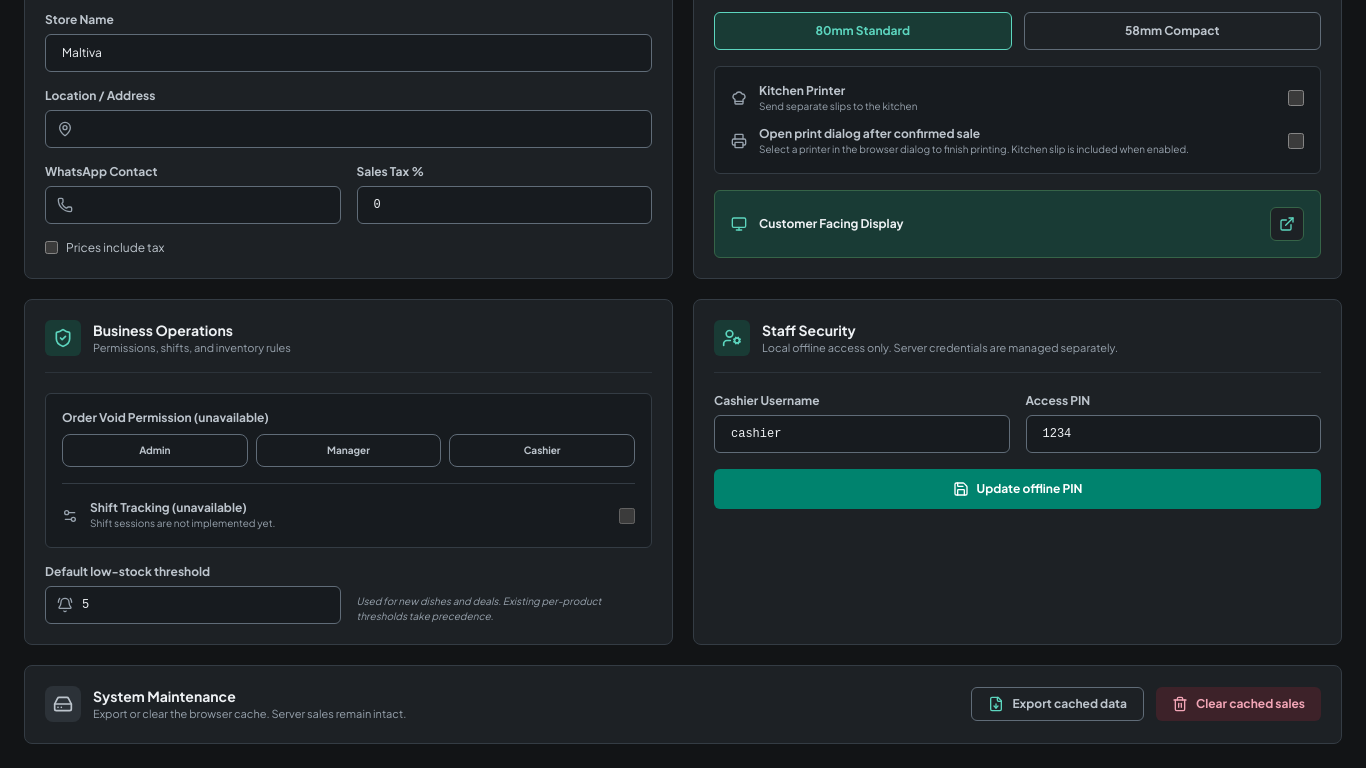
Scenario: layout controls › uses an in-app confirmation before wiping sales
(page scrolled)
Click the button "Clear cached sales" at (1238, 704), box [1156,687,1321,721]
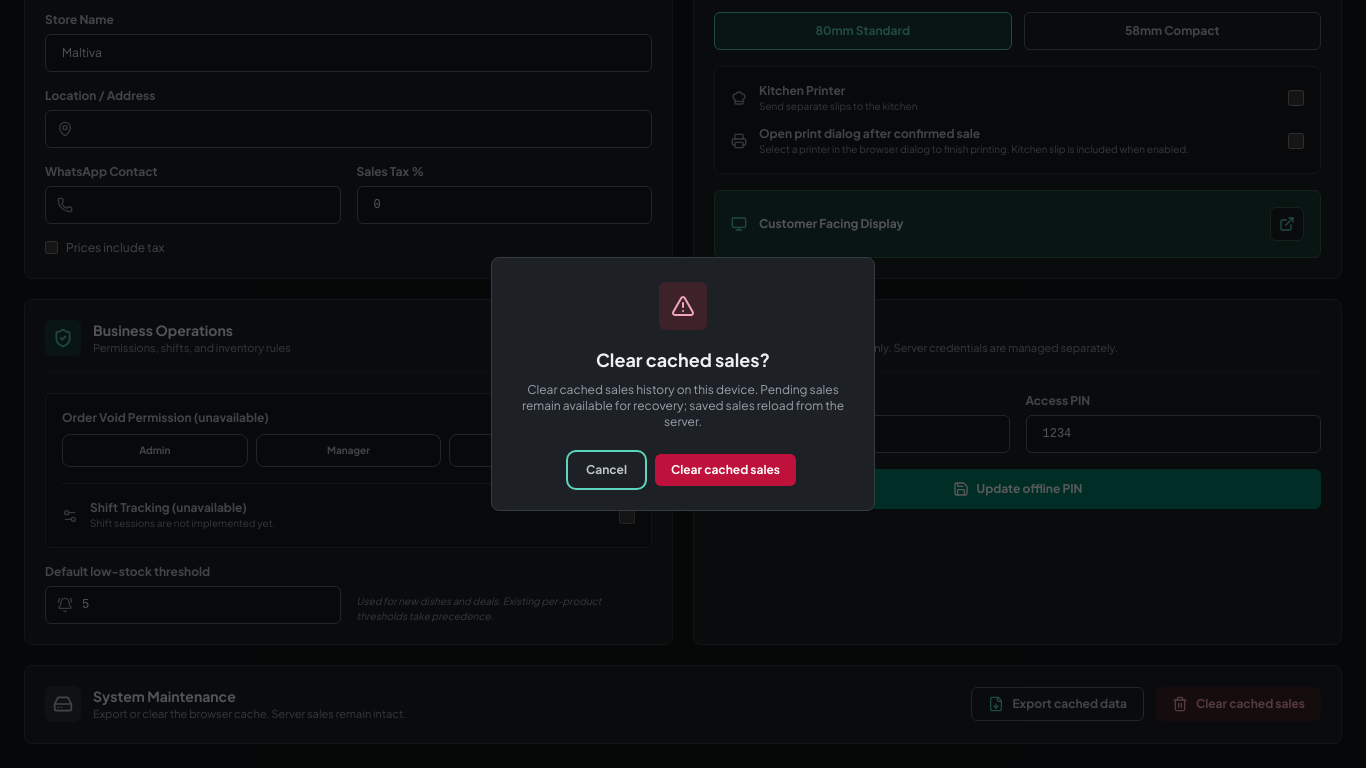
Expected: the dialog "Clear cached sales?" is shown, [491,257,875,511]
Click the button "Cancel" at (606, 470), box [570,454,643,486]
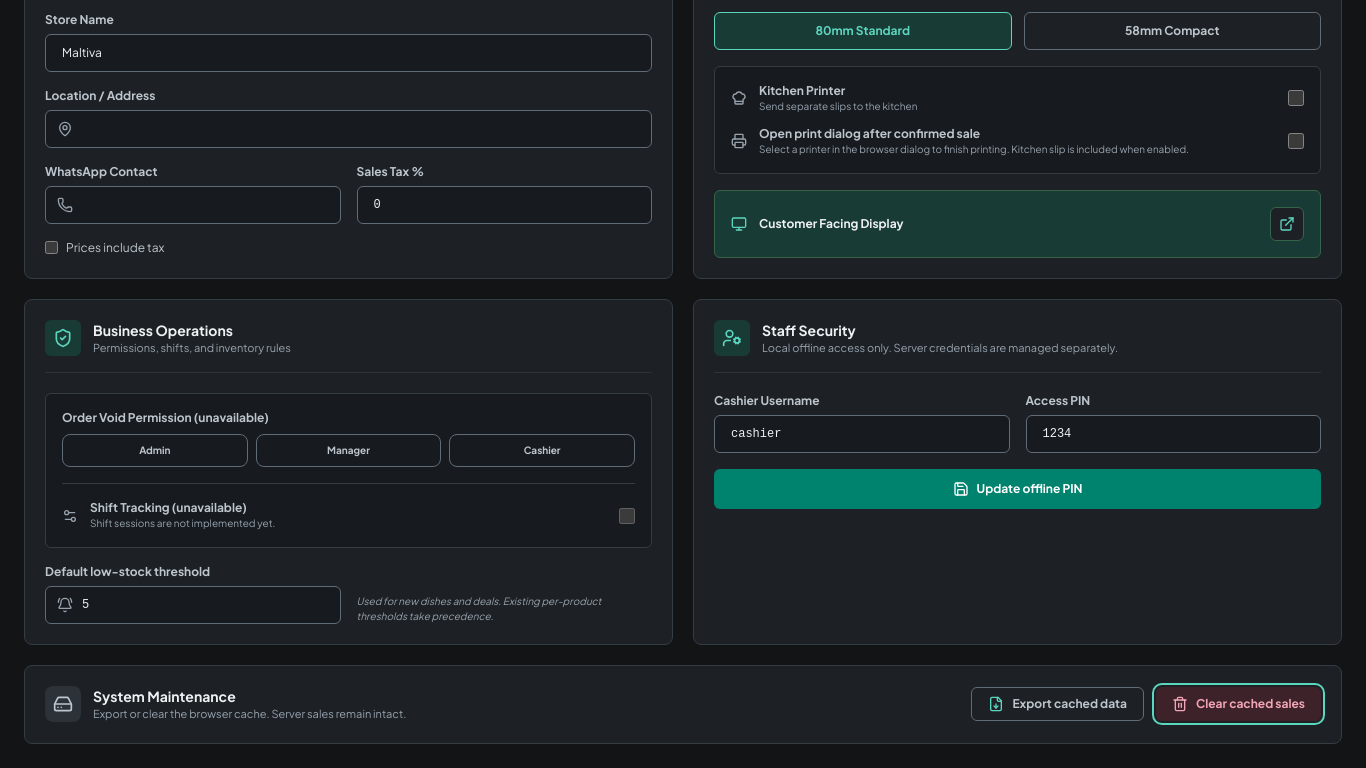
Expected: the dialog is gone
